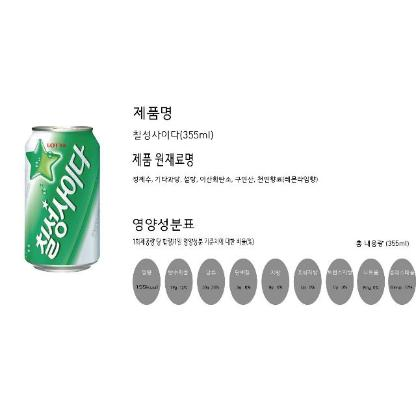Can: (25, 124, 99, 272)
